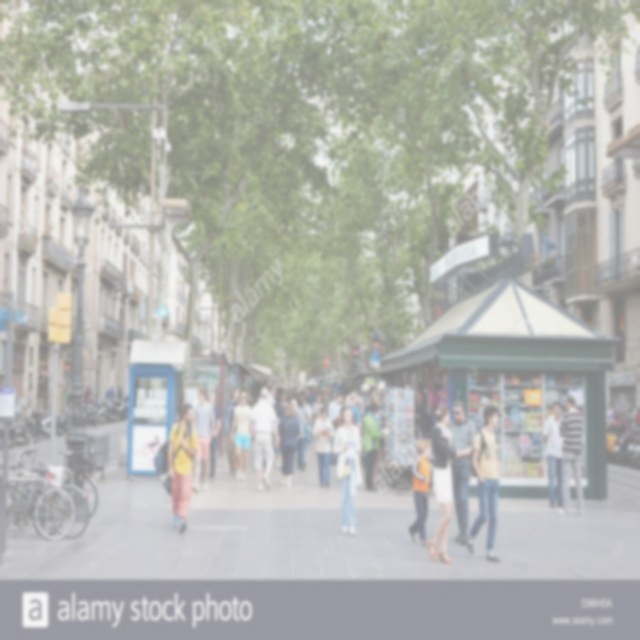pessoa: (464, 402, 504, 565), (152, 402, 199, 534), (426, 401, 458, 565), (330, 404, 364, 536), (447, 398, 476, 544), (556, 394, 586, 517), (404, 436, 436, 548), (248, 386, 280, 493), (541, 401, 567, 508), (192, 386, 216, 494), (362, 399, 388, 492), (229, 388, 254, 482), (310, 404, 336, 490), (277, 400, 301, 490), (414, 370, 444, 438), (224, 387, 242, 477), (294, 393, 312, 473), (370, 394, 386, 484), (206, 393, 222, 482), (327, 390, 344, 467), (270, 384, 326, 405), (271, 392, 286, 469), (356, 391, 368, 472), (300, 389, 312, 466), (310, 393, 324, 456), (344, 391, 362, 439), (330, 384, 352, 406), (257, 382, 277, 406), (279, 392, 295, 420), (66, 387, 76, 421), (606, 400, 616, 434), (332, 405, 346, 427), (322, 384, 334, 407), (81, 385, 92, 406), (634, 406, 640, 436), (85, 386, 93, 406), (117, 384, 123, 400)
